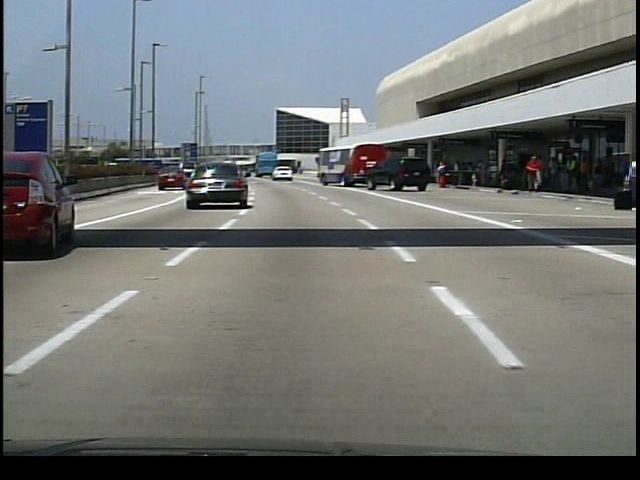person: (520, 152, 543, 194), (623, 152, 638, 209), (589, 156, 607, 193), (564, 152, 576, 191), (435, 159, 450, 189), (502, 157, 513, 186)
